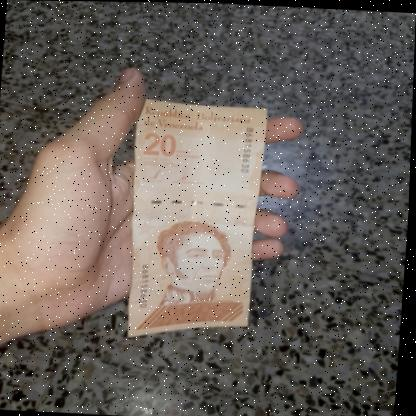twenty-front-vef: (124, 98, 269, 343)
